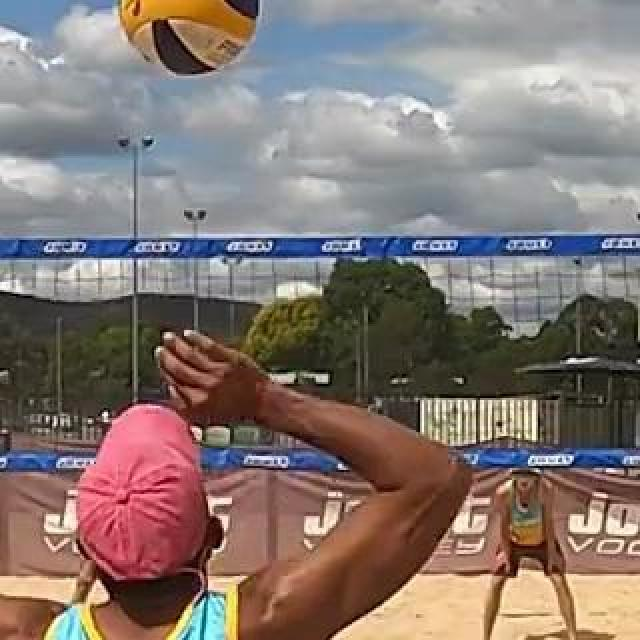volleyball: (117, 0, 259, 78)
